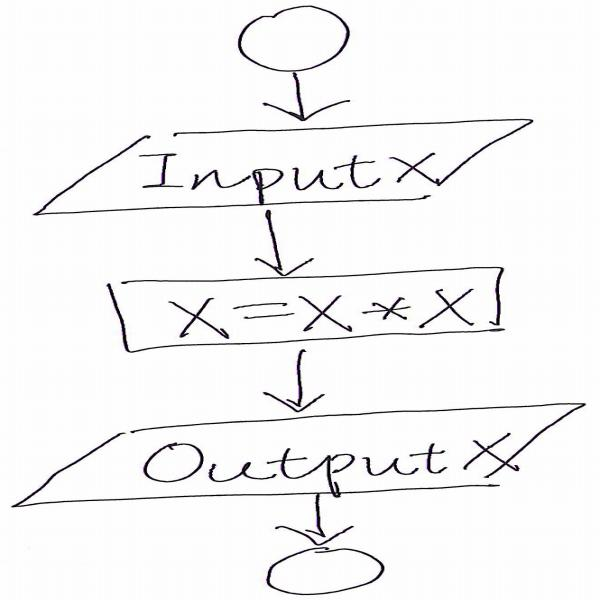arrow: (229, 208, 325, 275), (271, 70, 355, 122), (283, 497, 361, 545), (271, 352, 328, 412)
data: (15, 408, 578, 495), (37, 122, 530, 203)
process: (100, 267, 502, 342)
terminator: (226, 4, 364, 72), (256, 543, 403, 595)
text: (136, 436, 538, 480), (148, 143, 442, 192), (151, 288, 475, 330)
